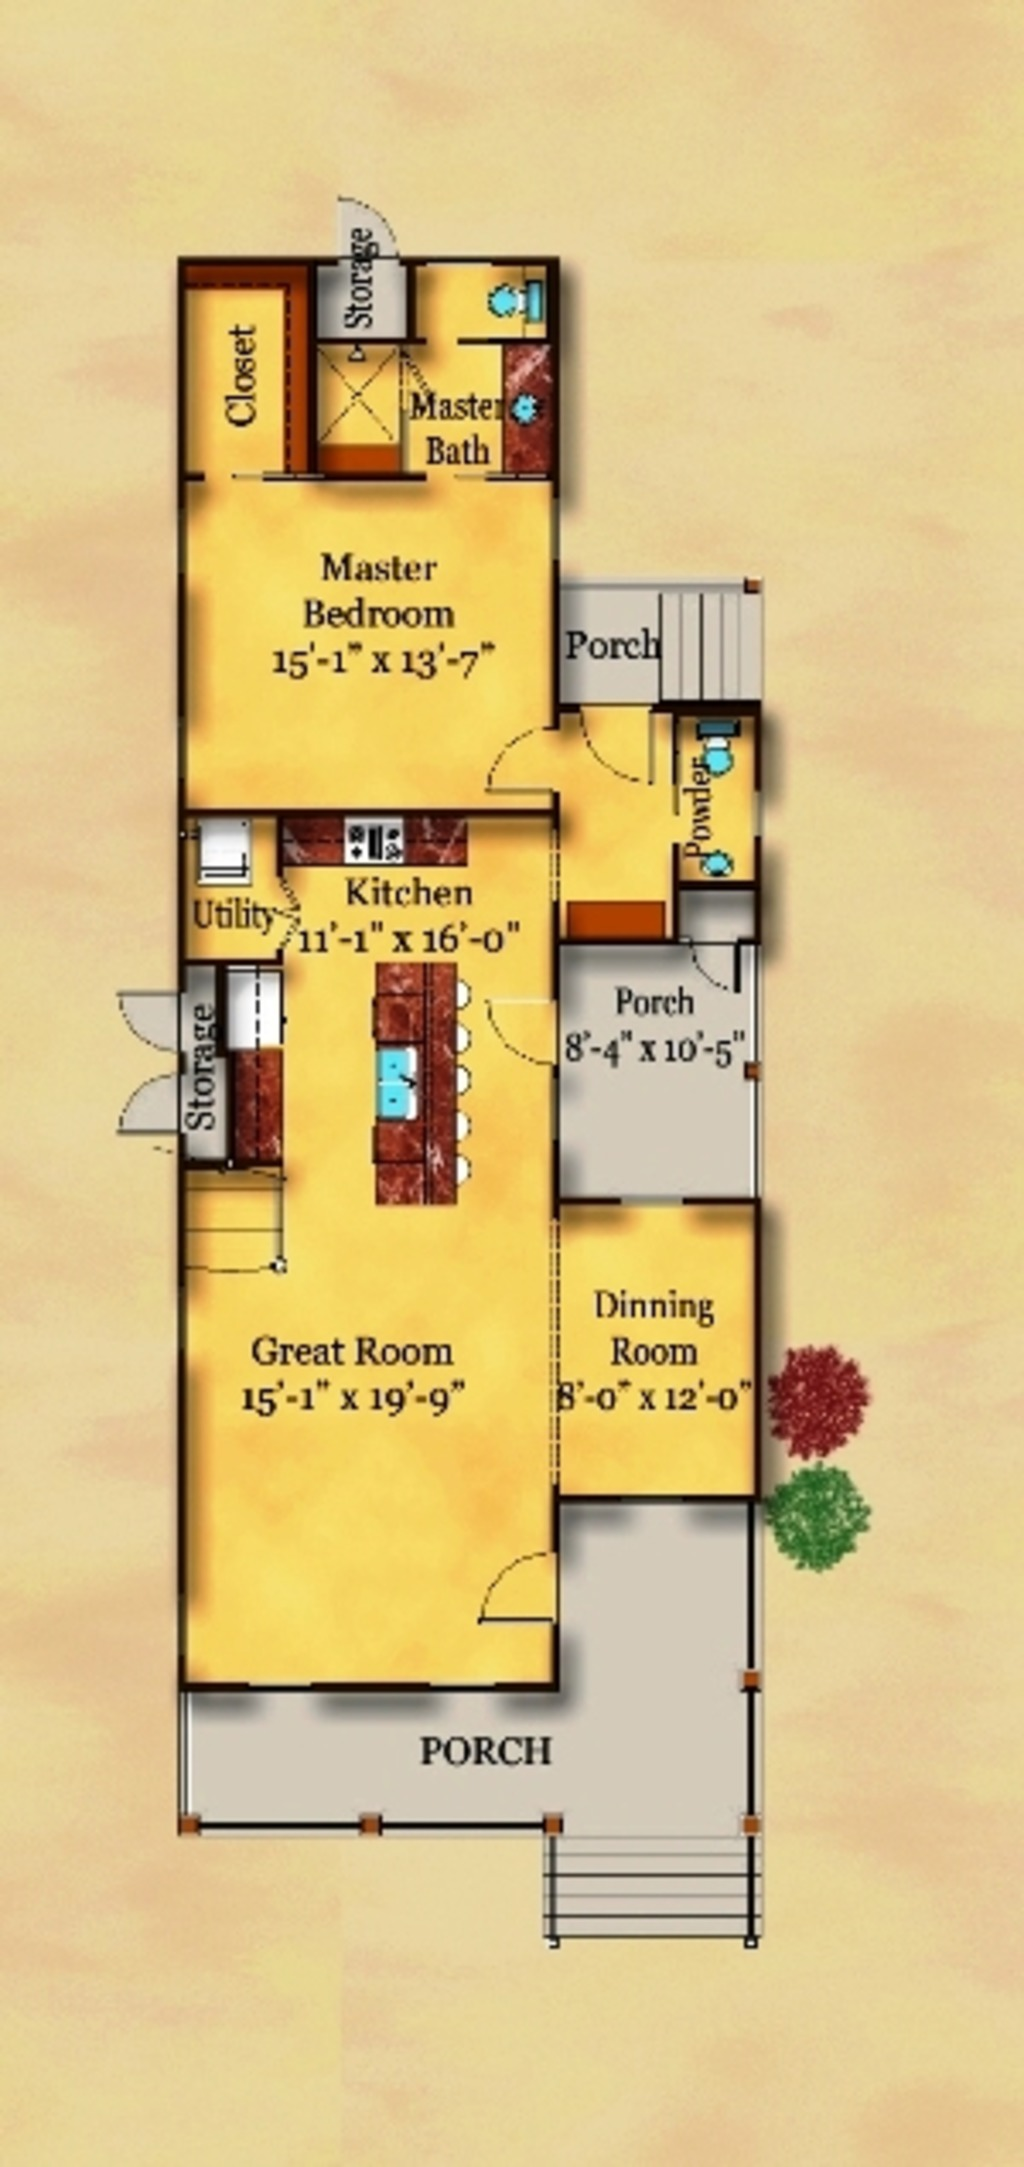door: (484, 985, 564, 1079), (573, 703, 655, 788), (473, 1546, 551, 1628), (484, 728, 562, 802), (115, 985, 182, 1067), (111, 1074, 189, 1142)
kitchen_bar: (363, 955, 475, 1224)
stairs: (533, 1823, 768, 1944), (636, 586, 778, 703)
